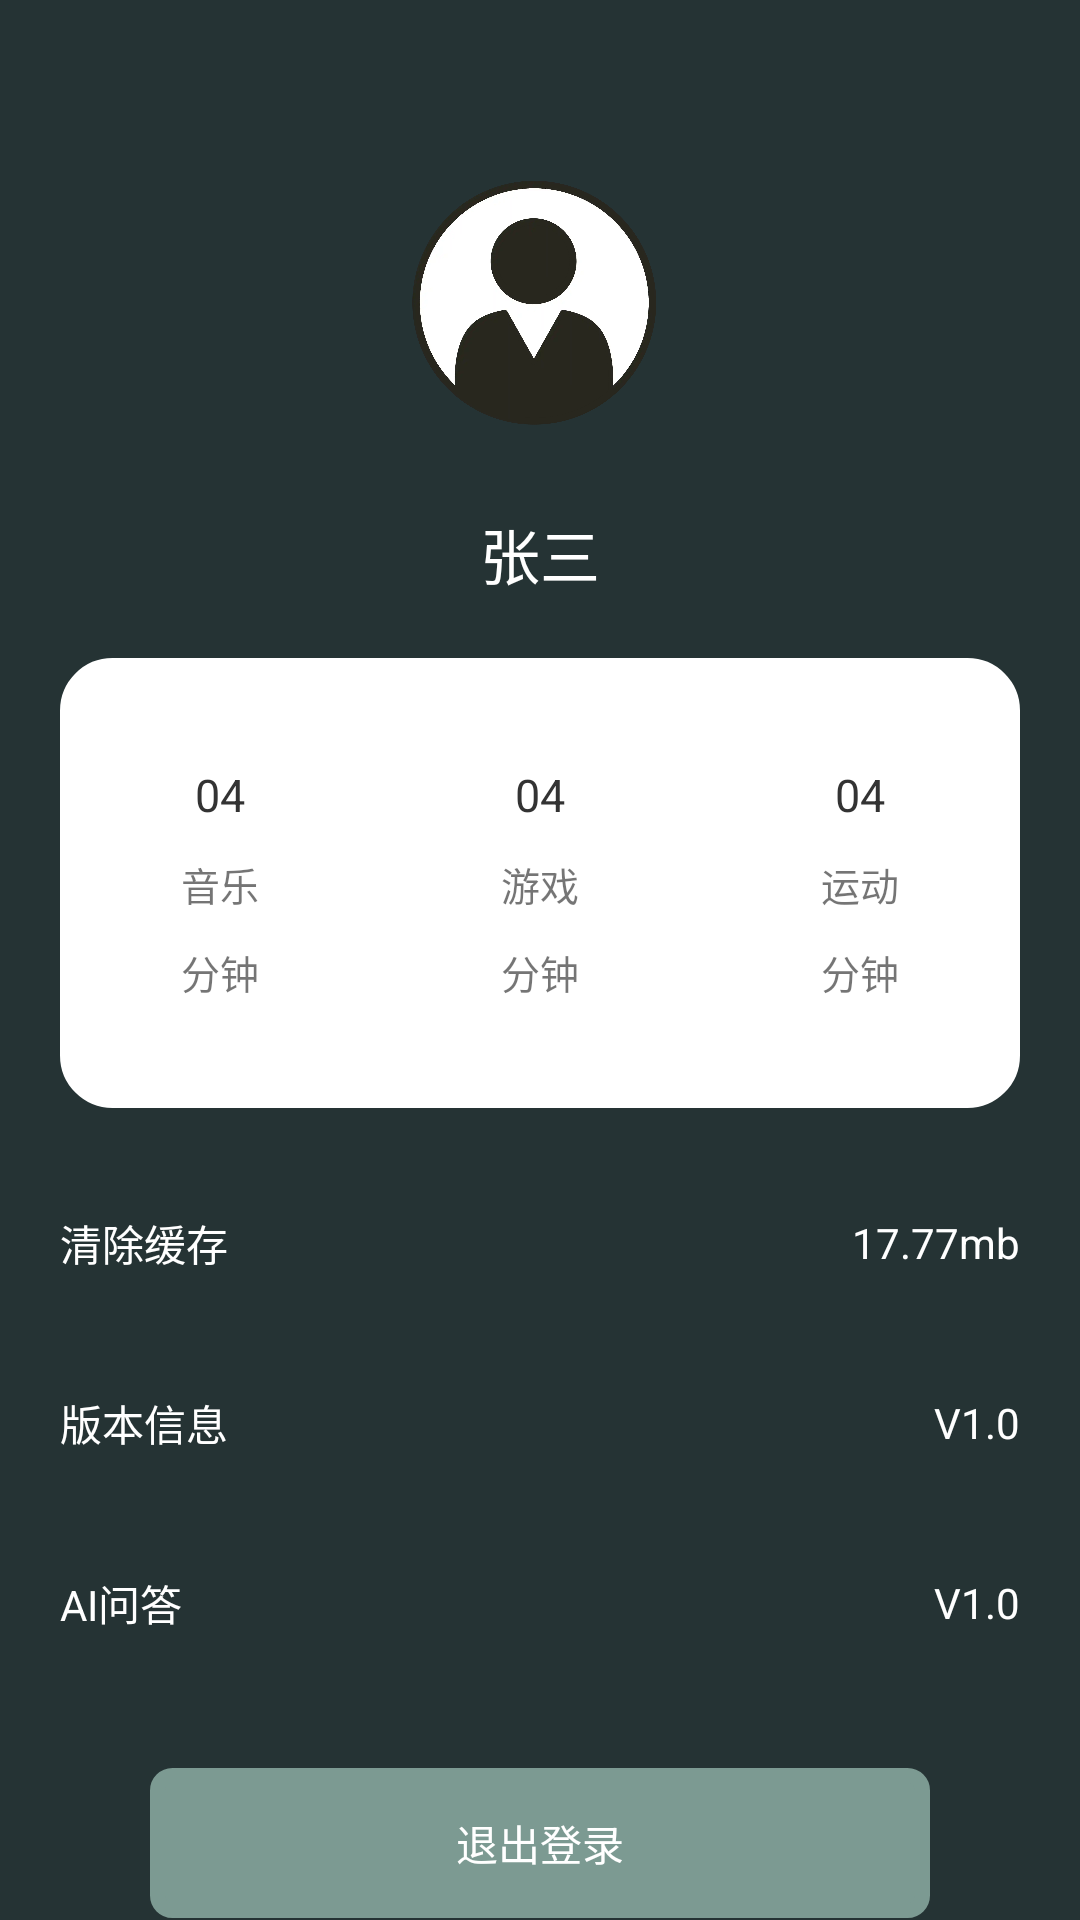

Where icons sit on this 1080 x 1920 app screen, as (x1, y1, x2, y2):
photo: (412, 181, 656, 425)
